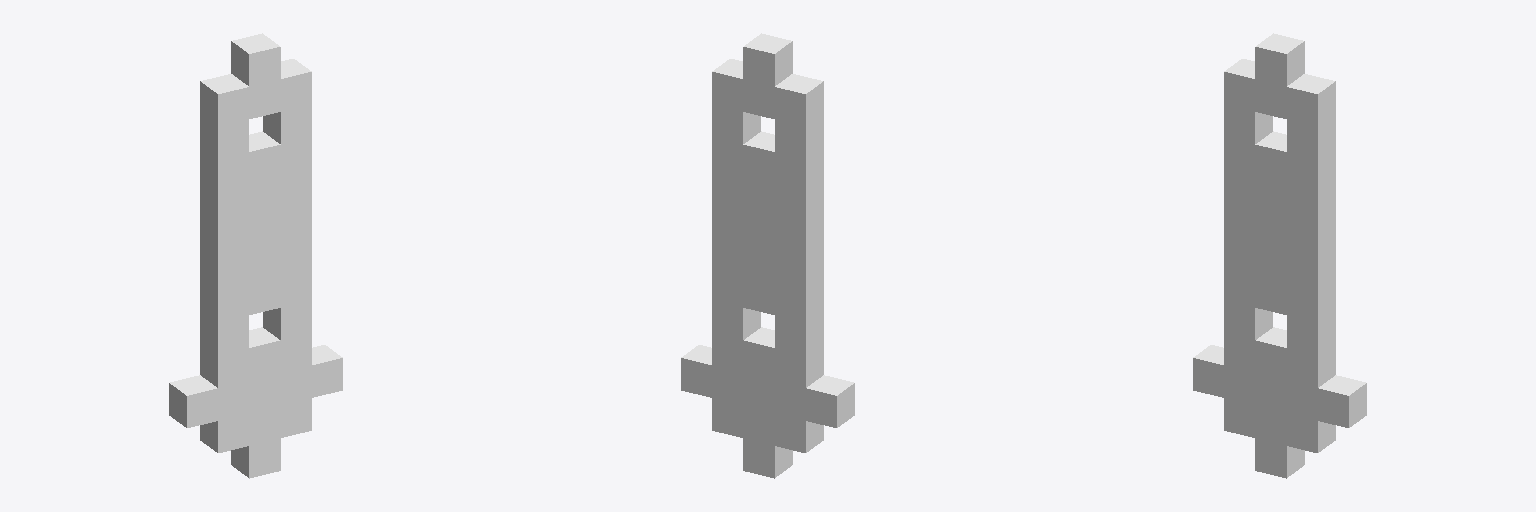
Rendered from StrongSword.obj.
3 views of the same model, side by side, from view 1: azimuth 30°, elevation 25°; view 2: azimuth 150°, elevation 25°; view 3: azimuth 330°, elevation 25° (orthographic).
Bounding box in the file's own units: 5 × 13 × 1.